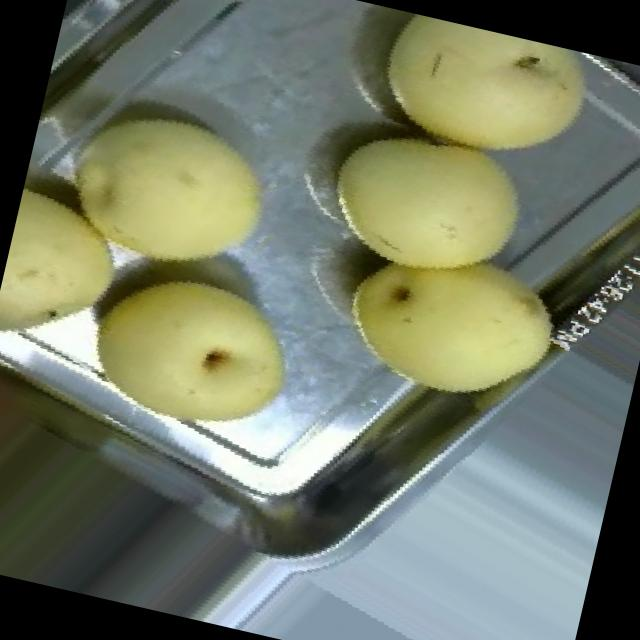Fruit: (11, 43, 317, 318), (48, 224, 330, 476), (311, 205, 596, 448), (300, 96, 558, 305), (350, 6, 614, 190), (0, 154, 129, 378)
